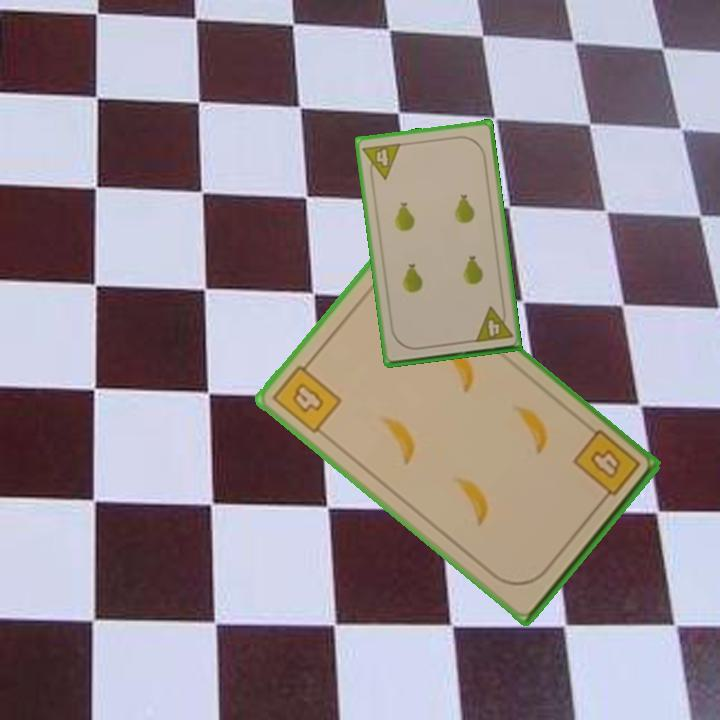4b: (268, 355, 345, 437), (569, 426, 643, 508)
4p: (359, 139, 404, 184), (471, 302, 515, 345)
